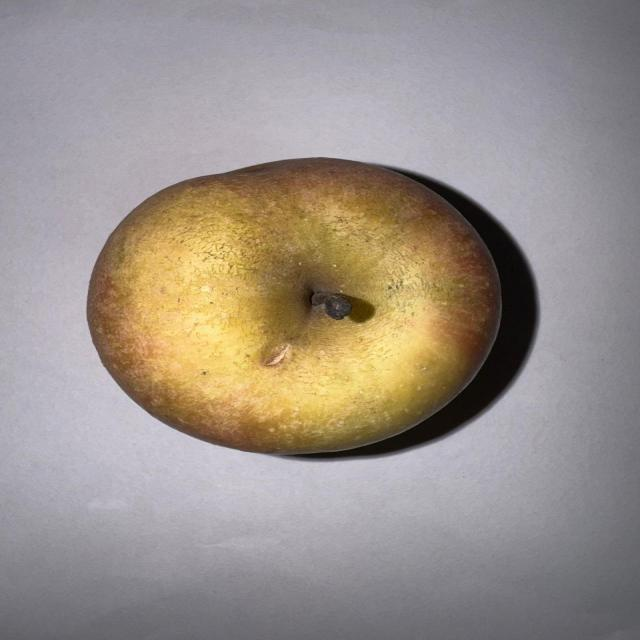fresh_apple: (87, 157, 501, 453)
